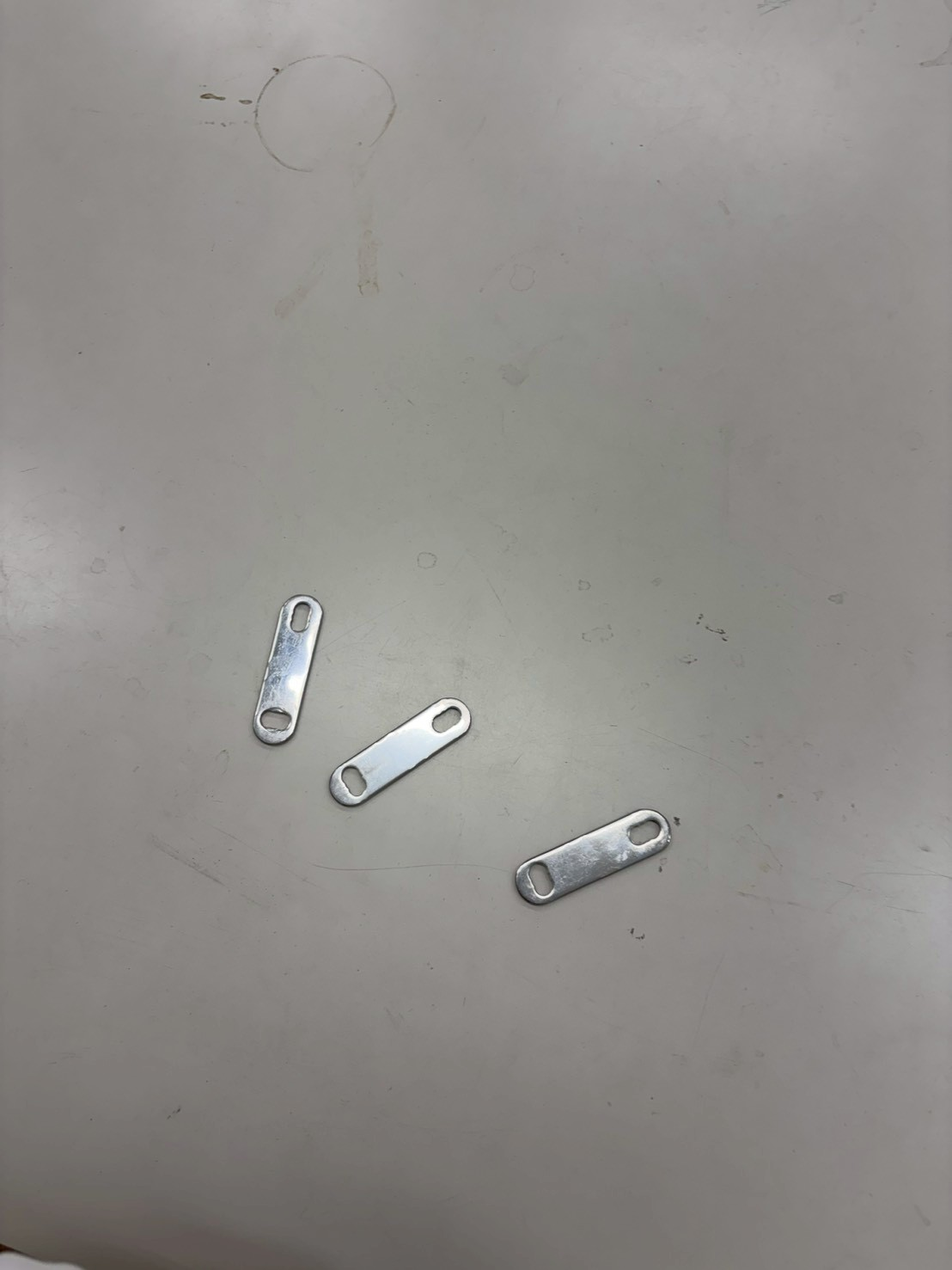Fe: (513, 799, 681, 925), (336, 691, 469, 824), (248, 585, 327, 749)
